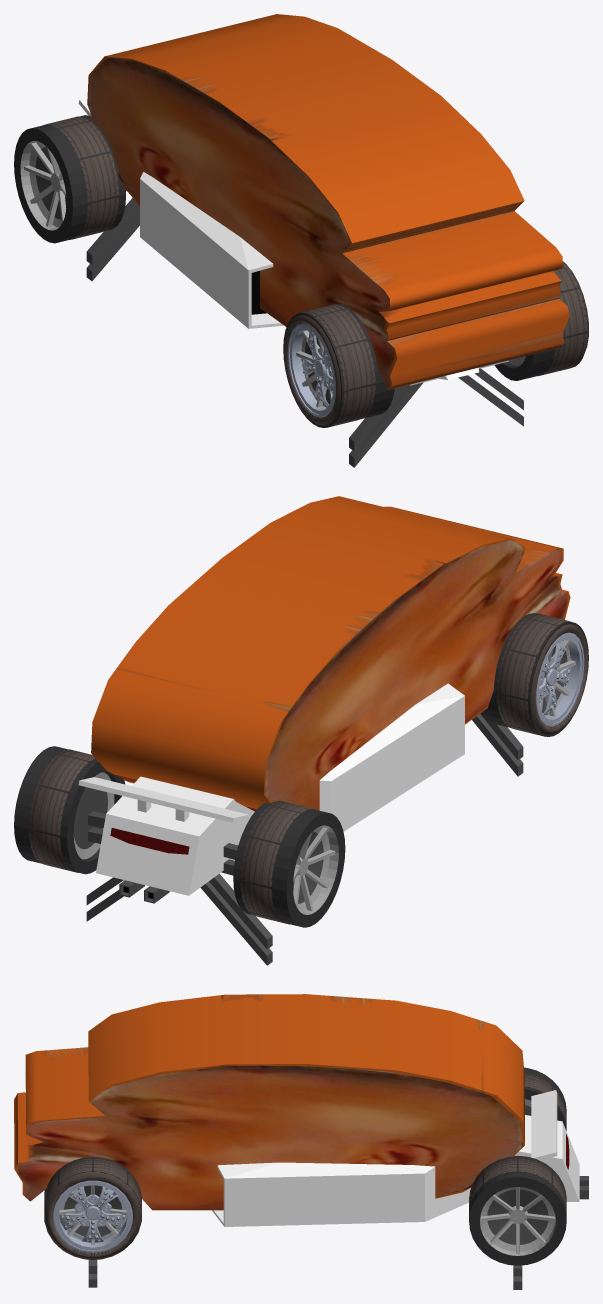
File: dababy.glb
3 views of the same model, one above another, from view 1: azimuth 30°, elevation 25°; view 2: azimuth 150°, elevation 25°; view 3: azimuth 270°, elevation 25° (orthographic). The views are drawn at different scales.
Parts seen in each view (by area): view 1: Body, Body.001, WheelFR, WheelBR.001, WheelBR, WheelFR.001, WheelFL, SuspensionFR.001, SuspensionBR.001, WheelFL.001, SuspensionFL.001; view 2: Body, Body.001, WheelFR, WheelBR.001, WheelBL.001, WheelBR, WheelBL, WheelFR.001, SuspensionBR.001, SuspensionFR.001, Suspension.001, SuspensionBL.001; view 3: Body, Body.001, WheelBL.001, WheelFL, WheelFL.001, WheelBL, WheelBR.001, WheelBR.
Part boxes in pixels (bbox=[...]): Body: bbox=[87, 14, 569, 389]; Body.001: bbox=[78, 97, 508, 385]; WheelFR: bbox=[283, 304, 375, 427]; WheelBR.001: bbox=[14, 115, 125, 243]; WheelBR: bbox=[43, 116, 118, 239]; WheelFR.001: bbox=[283, 304, 394, 427]; WheelFL: bbox=[538, 261, 588, 376]; SuspensionFR.001: bbox=[349, 382, 423, 467]; SuspensionBR.001: bbox=[86, 198, 139, 281]; WheelFL.001: bbox=[494, 261, 587, 380]; SuspensionFL.001: bbox=[458, 368, 523, 426]; Body: bbox=[91, 496, 570, 811]; Body.001: bbox=[78, 683, 464, 903]; WheelFR: bbox=[496, 613, 588, 736]; WheelBR.001: bbox=[233, 801, 345, 927]; WheelBL.001: bbox=[14, 746, 125, 874]; WheelBR: bbox=[240, 801, 314, 924]; WheelBL: bbox=[28, 749, 94, 872]; WheelFR.001: bbox=[481, 613, 588, 736]; SuspensionBR.001: bbox=[200, 873, 272, 965]; SuspensionFR.001: bbox=[472, 713, 523, 776]; Suspension.001: bbox=[88, 811, 237, 875]; SuspensionBL.001: bbox=[86, 877, 123, 921]; Body: bbox=[14, 994, 524, 1210]; Body.001: bbox=[212, 1090, 588, 1226]; WheelBL.001: bbox=[469, 1155, 566, 1265]; WheelFL: bbox=[44, 1158, 141, 1259]; WheelFL.001: bbox=[44, 1156, 141, 1259]; WheelBL: bbox=[469, 1158, 566, 1213]; WheelBR.001: bbox=[524, 1067, 566, 1130]; WheelBR: bbox=[524, 1073, 566, 1127].
Size of what is drawn, in the model's own units: 1.76 by 1.67 by 3.89.
Materials: 10 (4 with a texture image).
